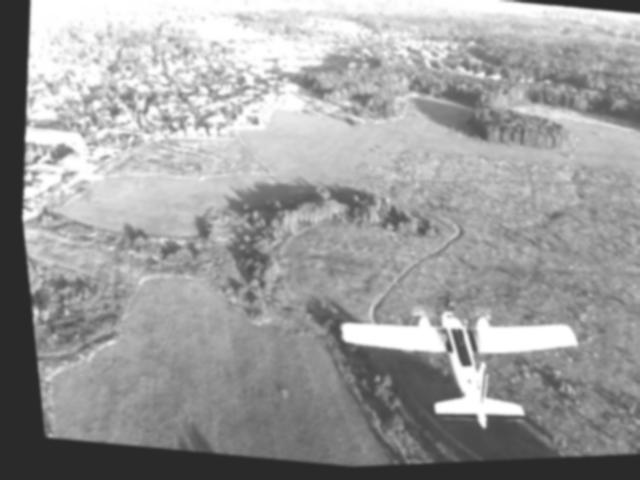hedef: (292, 273, 599, 471)
